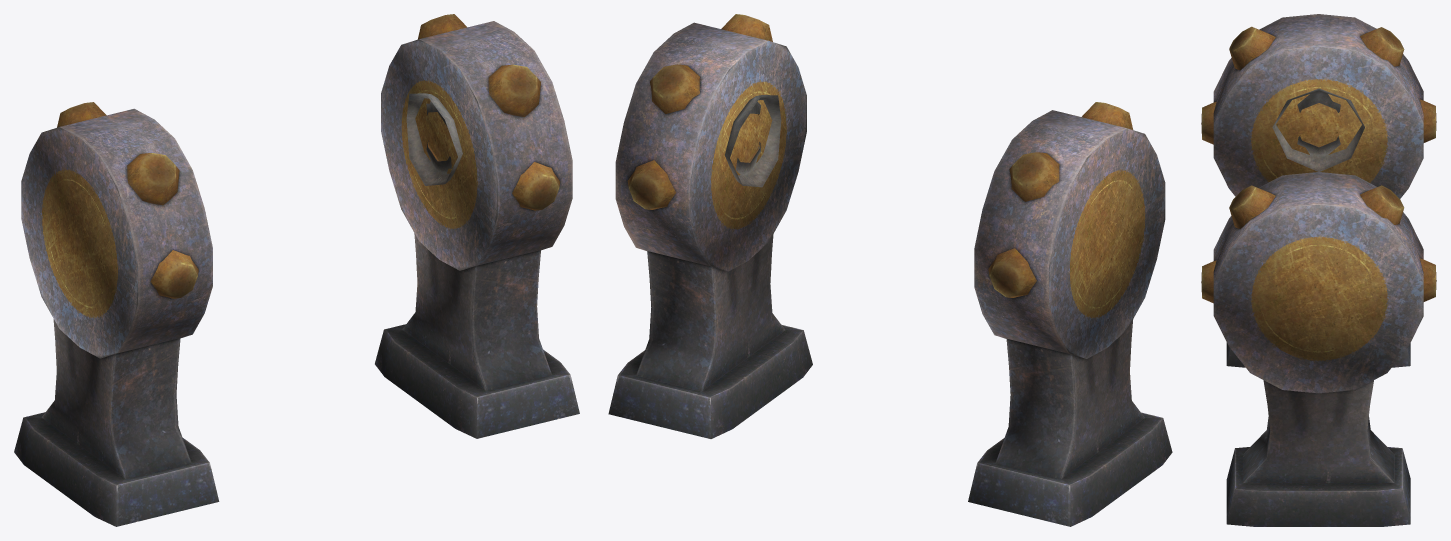
Rendered from canon_b2.obj.
The picture shows the model from 3 angles, left to right: view 1: azimuth 30°, elevation 25°; view 2: azimuth 150°, elevation 25°; view 3: azimuth 270°, elevation 25°; orthographic projection. The views are drawn at different scales.
Visible parts, largest first — view 1: canon_b2; view 2: canon_b2; view 3: canon_b2.
Part boxes in pixels (x1=…): canon_b2: x1=14, y1=14, x2=579, y2=526; canon_b2: x1=608, y1=14, x2=1172, y2=526; canon_b2: x1=1201, y1=14, x2=1436, y2=526.
Size of the model in its own units: 286 by 201 by 136.
Materials: 1 (1 with a texture image).
